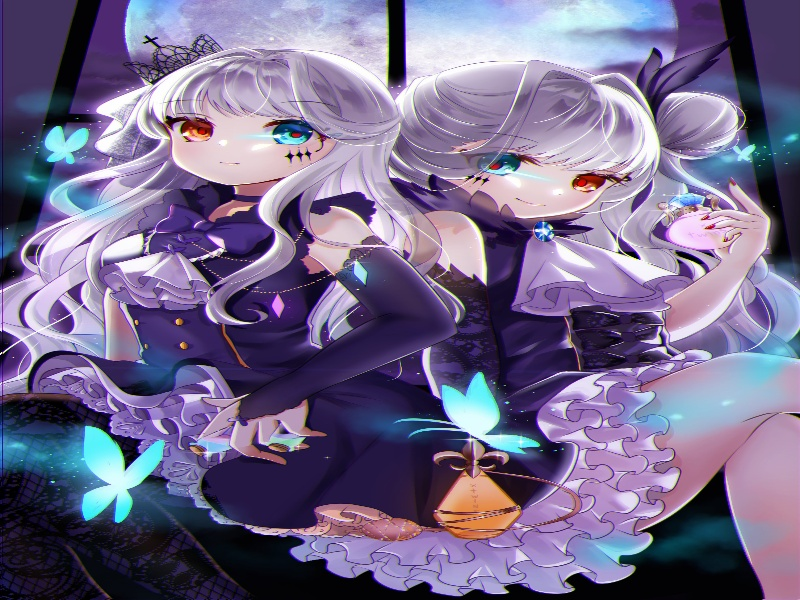dress: (335, 258, 688, 594), (35, 328, 534, 541)
person: (394, 60, 664, 233), (125, 46, 375, 207)
